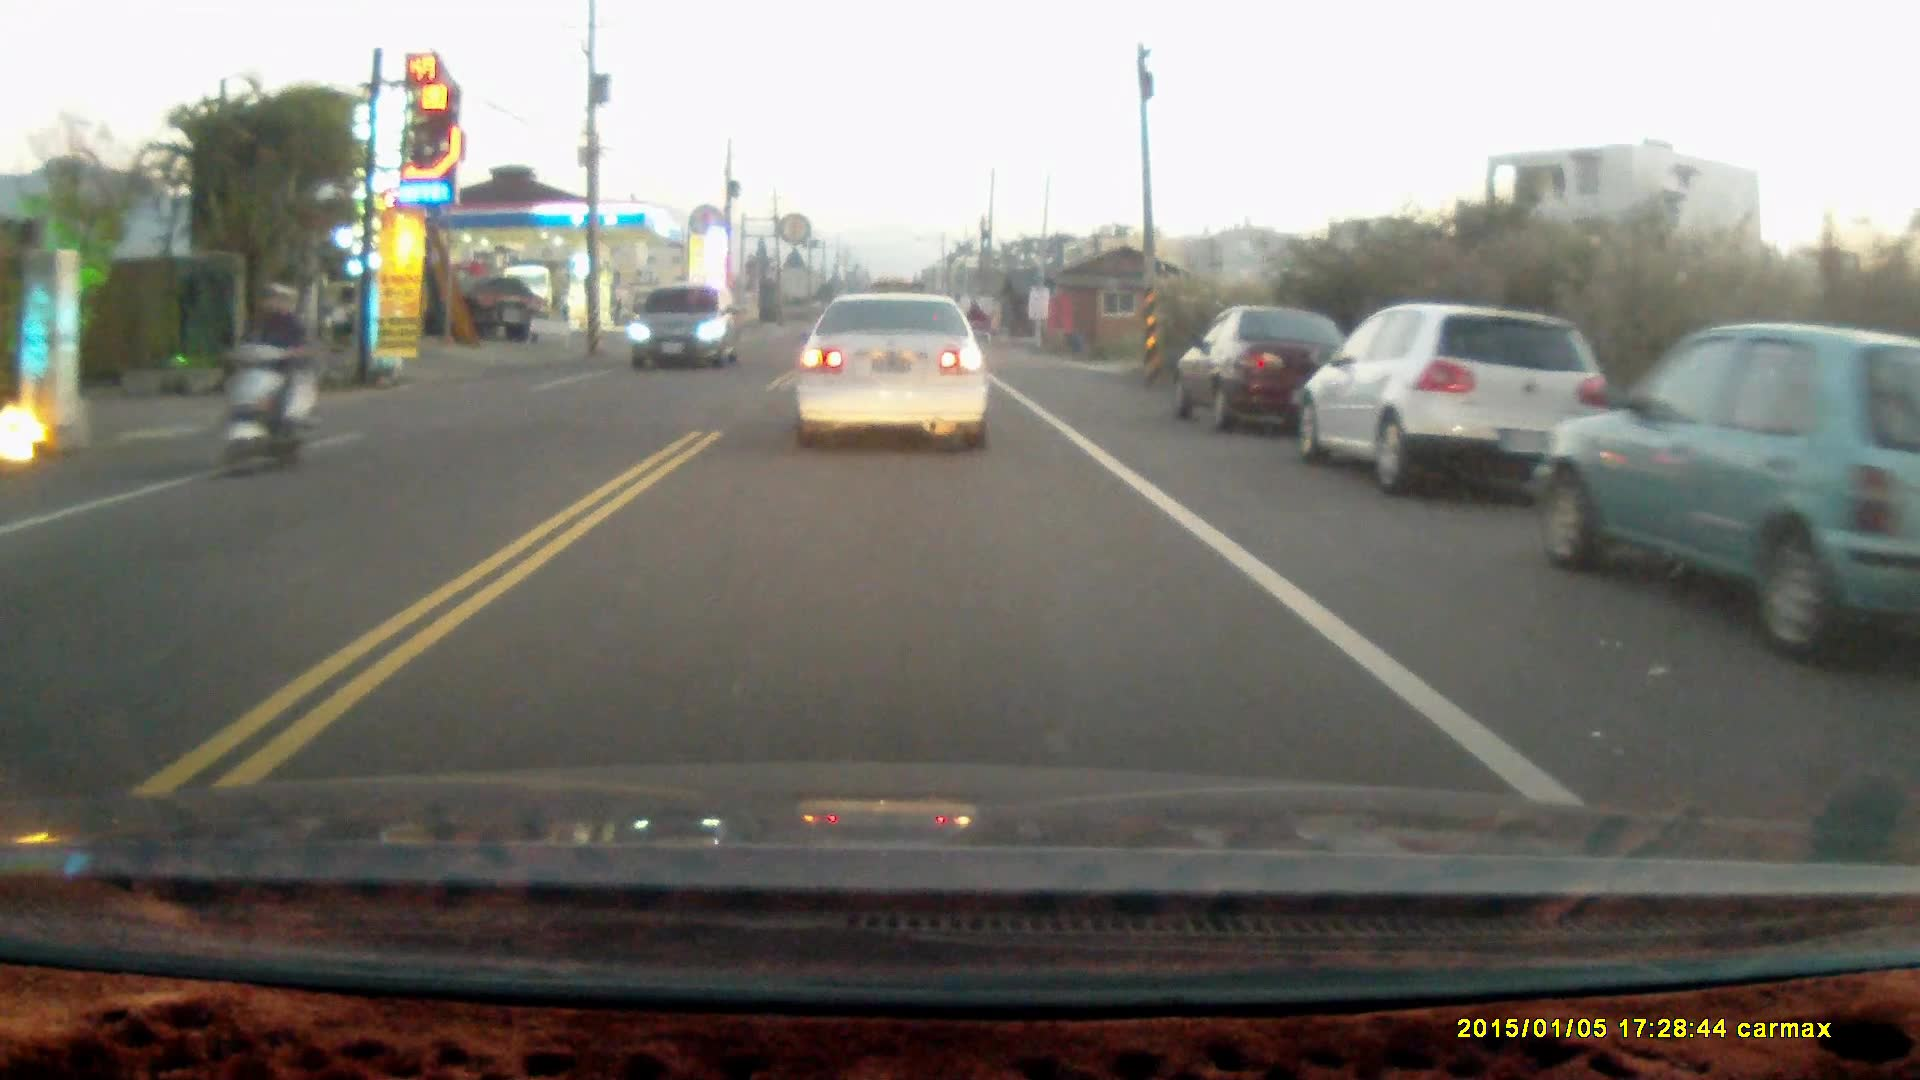rider: (212, 279, 320, 482)
vehicle: (1536, 318, 1920, 671), (1304, 296, 1612, 492), (796, 293, 995, 458), (1178, 301, 1364, 430), (629, 283, 745, 371)
